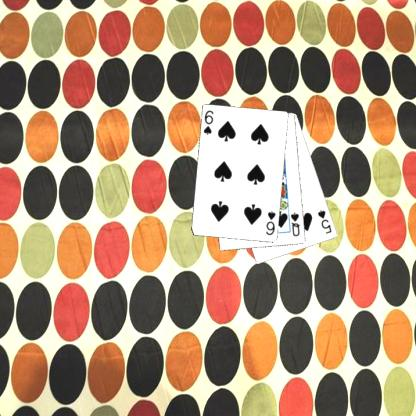5S: (315, 208, 333, 236)
6S: (201, 108, 215, 136), (263, 209, 277, 236)
QS: (288, 210, 301, 238)
